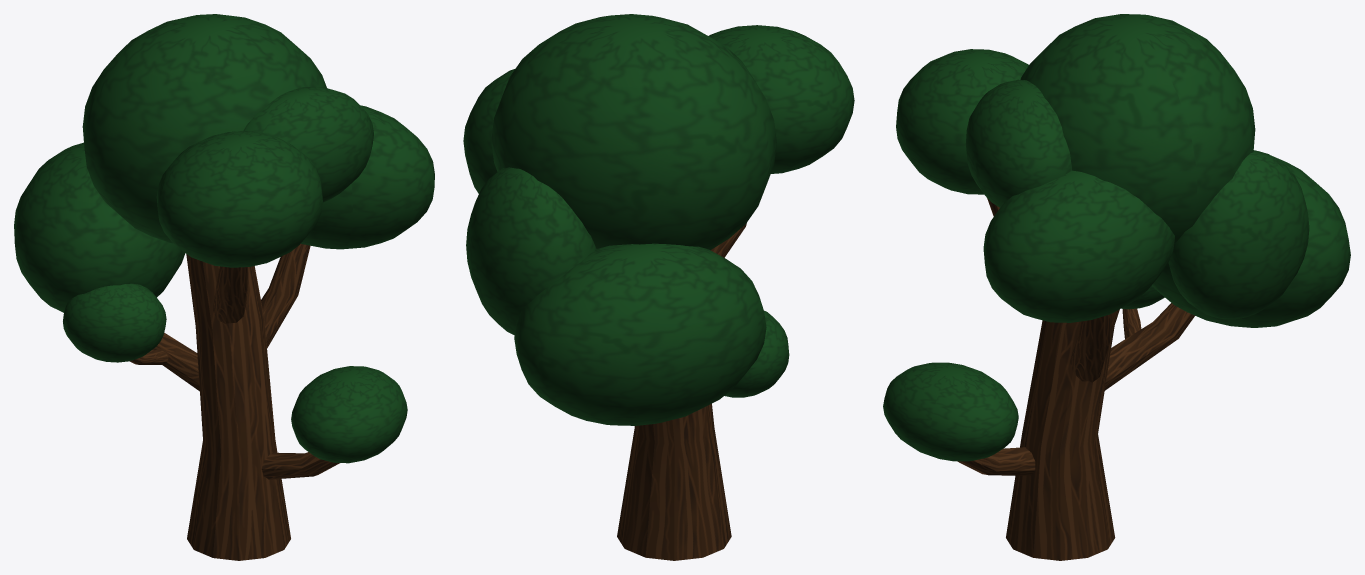
File: Asset_Tree.fbx
The picture shows the model from 3 angles, left to right: view 1: azimuth 30°, elevation 25°; view 2: azimuth 150°, elevation 25°; view 3: azimuth 270°, elevation 25°; orthographic projection. The views are drawn at different scales.
Visible parts, largest first — view 1: Tree_01; view 2: Tree_01; view 3: Tree_01.
Part boxes in pixels (box(x1,y1,x2,y2)): Tree_01: box(14, 14, 434, 560); Tree_01: box(463, 14, 854, 560); Tree_01: box(883, 14, 1350, 560).
Bounding box in the file's own units: 2.33 × 3.36 × 2.79.
